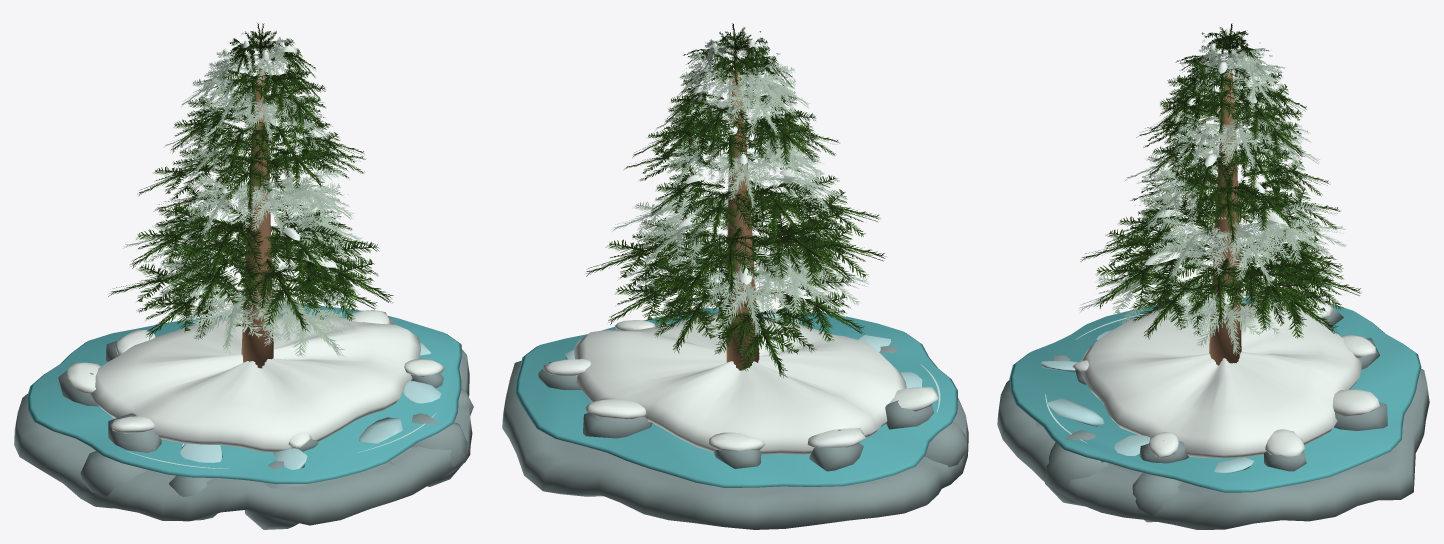
Rendered from snowy-island-v11.fbx.
The picture shows the model from 3 angles, left to right: view 1: azimuth 30°, elevation 25°; view 2: azimuth 150°, elevation 25°; view 3: azimuth 270°, elevation 25°; orthographic projection.
Visible parts, largest first — view 1: Snowy | Snow | soft, Snowy | Pine | twig atlas, Snowy | Rock | blue grey, Snowy | Pine | frost atlas, Snowy | Sea | icy turquoise, Snowy | Pine | bark, Snowy | Ice | pale blue; view 2: Snowy | Pine | twig atlas, Snowy | Snow | soft, Snowy | Rock | blue grey, Snowy | Pine | frost atlas, Snowy | Sea | icy turquoise, Snowy | Pine | bark, Snowy | Ice | pale blue; view 3: Snowy | Snow | soft, Snowy | Pine | twig atlas, Snowy | Rock | blue grey, Snowy | Pine | frost atlas, Snowy | Sea | icy turquoise, Snowy | Pine | bark, Snowy | Ice | pale blue.
Part boxes in pixels (<box>): Snowy | Snow | soft: <box>65,40,444,452</box>; Snowy | Pine | twig atlas: <box>108,23,393,339</box>; Snowy | Rock | blue grey: <box>14,316,473,529</box>; Snowy | Pine | frost atlas: <box>123,30,371,357</box>; Snowy | Sea | icy turquoise: <box>26,304,461,484</box>; Snowy | Pine | bark: <box>241,70,273,368</box>; Snowy | Ice | pale blue: <box>180,343,441,469</box>; Snowy | Pine | twig atlas: <box>586,23,886,377</box>; Snowy | Snow | soft: <box>543,39,937,454</box>; Snowy | Rock | blue grey: <box>502,310,968,529</box>; Snowy | Pine | frost atlas: <box>611,33,868,336</box>; Snowy | Sea | icy turquoise: <box>515,308,957,487</box>; Snowy | Pine | bark: <box>726,71,759,370</box>; Snowy | Ice | pale blue: <box>565,308,922,388</box>; Snowy | Snow | soft: <box>1072,28,1379,458</box>; Snowy | Pine | twig atlas: <box>1080,23,1360,339</box>; Snowy | Rock | blue grey: <box>997,299,1429,529</box>; Snowy | Pine | frost atlas: <box>1079,39,1346,355</box>; Snowy | Sea | icy turquoise: <box>1009,295,1421,492</box>; Snowy | Pine | bark: <box>1209,71,1241,365</box>; Snowy | Ice | pale blue: <box>1041,330,1253,473</box>.
Bounding box in the file's own units: 164 × 160 × 144.
8 materials, 2 textured.
